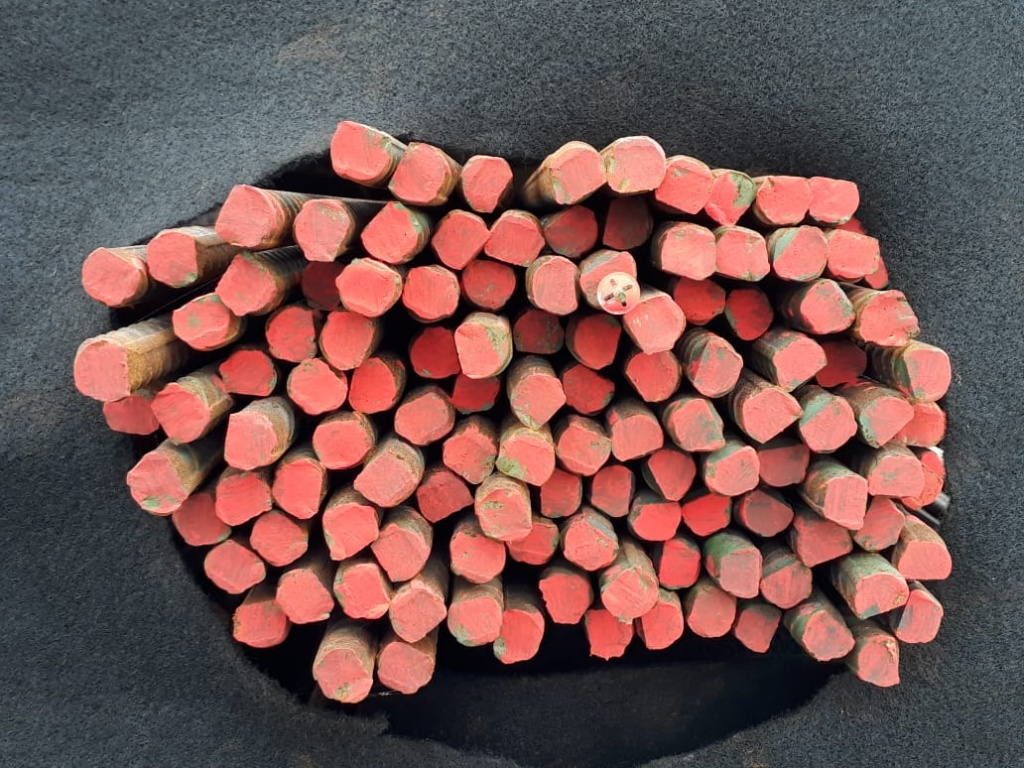dipstick: (126, 451, 186, 516), (215, 184, 276, 246), (387, 141, 447, 204), (216, 255, 277, 316), (353, 450, 417, 508), (339, 258, 401, 316), (151, 383, 210, 443), (73, 340, 130, 401), (331, 120, 389, 179), (81, 247, 141, 304), (361, 202, 418, 262), (294, 200, 350, 261), (484, 212, 546, 267), (371, 524, 429, 582), (859, 290, 918, 347), (287, 359, 347, 415), (270, 458, 325, 519), (432, 212, 489, 270), (624, 296, 684, 351), (605, 138, 666, 192), (322, 503, 379, 560), (549, 148, 607, 204), (742, 387, 800, 443), (275, 567, 334, 622), (204, 540, 266, 592), (333, 562, 390, 618), (580, 251, 636, 308), (799, 395, 855, 452), (319, 311, 374, 369), (389, 586, 447, 641), (173, 492, 232, 546), (250, 513, 310, 566), (511, 374, 566, 431), (314, 649, 372, 703), (394, 392, 454, 444), (224, 412, 278, 469), (449, 532, 506, 585), (658, 158, 711, 215), (496, 434, 554, 486), (690, 339, 741, 398), (661, 225, 716, 279), (714, 228, 769, 282), (215, 474, 271, 527), (555, 424, 611, 477), (774, 226, 828, 280), (771, 338, 826, 391), (851, 496, 904, 551), (456, 321, 508, 377), (529, 257, 580, 314), (172, 300, 232, 348), (476, 489, 531, 541), (443, 429, 495, 484), (543, 205, 598, 257), (378, 643, 435, 693), (417, 473, 474, 523), (801, 280, 855, 332), (859, 395, 913, 447), (147, 232, 198, 287), (462, 156, 511, 213), (898, 348, 950, 401), (564, 520, 618, 571), (671, 399, 725, 450), (348, 358, 398, 413), (403, 267, 458, 317), (758, 174, 813, 224), (602, 569, 658, 618), (493, 610, 544, 663), (704, 171, 754, 225), (705, 445, 759, 495), (573, 314, 622, 369), (313, 421, 371, 467), (463, 259, 516, 309), (266, 307, 315, 361), (233, 601, 290, 647), (601, 198, 651, 250), (447, 598, 502, 645), (627, 351, 678, 401), (742, 489, 794, 538), (826, 228, 879, 276), (220, 350, 276, 395), (563, 365, 615, 413), (895, 589, 942, 642), (798, 520, 852, 566), (853, 573, 908, 618), (823, 476, 867, 532), (539, 574, 589, 623), (410, 327, 458, 378), (803, 611, 854, 659), (648, 450, 695, 502), (673, 276, 725, 323), (760, 561, 812, 608), (869, 453, 925, 496), (817, 339, 867, 387), (506, 520, 559, 565), (688, 588, 736, 637), (612, 415, 663, 461), (727, 288, 773, 339), (513, 309, 565, 354), (809, 176, 859, 222), (590, 464, 633, 517), (896, 400, 946, 445), (102, 394, 159, 433), (302, 261, 345, 311), (541, 466, 582, 518), (736, 604, 780, 652), (857, 636, 899, 686), (586, 609, 632, 654), (757, 445, 808, 485), (719, 547, 759, 598), (641, 600, 683, 648), (683, 494, 731, 536), (902, 462, 944, 510), (898, 541, 951, 579), (659, 539, 699, 589), (452, 372, 500, 412), (632, 502, 681, 541)
